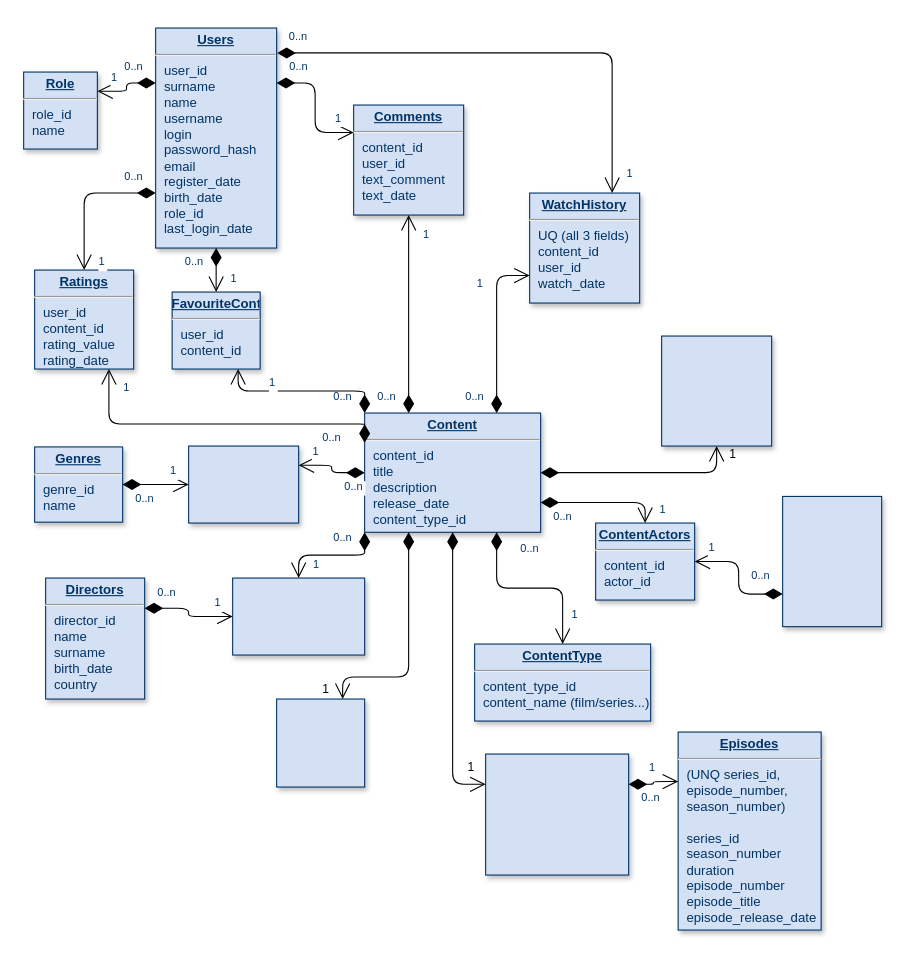
The diagram is 908 pixels wide and 958 high, and some of its shapes have lost their labels. Each missing label, with the centre of its shape:
Actors actor_id name surname birth_date country: the point at 832,562
ContentDirectors content_id director_id: the point at 299,618
ContentGenres content genre_id: the point at 244,486
Films film_id content_id duration: the point at 321,744
Series series_id content_id total_duration number_of_seasons number_of_episodes: the point at 557,816
Statistics content_id view_count average_rating comment_count: the point at 717,392
